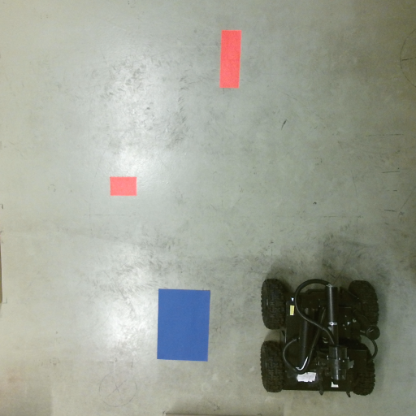Blue: (156, 286, 212, 363)
Jaguar: (256, 276, 380, 399)
Red: (218, 28, 241, 91), (108, 175, 139, 198)
